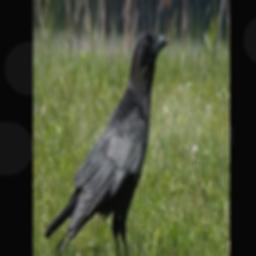Crow: (44, 30, 169, 256)
